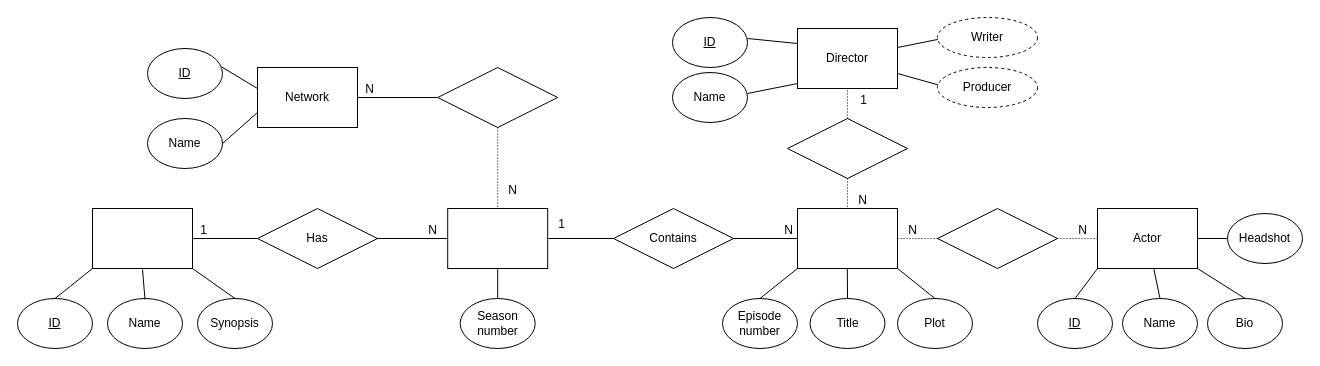
This 1320x366 diagram has some shape labels left out. Here are the shapes that lost their labels. From the top down, the centre of each, then its label:
At (497,97): "Airs".
At (847,148): "Directs".
At (142,238): "TV Show".
At (497,238): "Season".
At (847,238): "Episode".
At (997,238): "Appears in".
